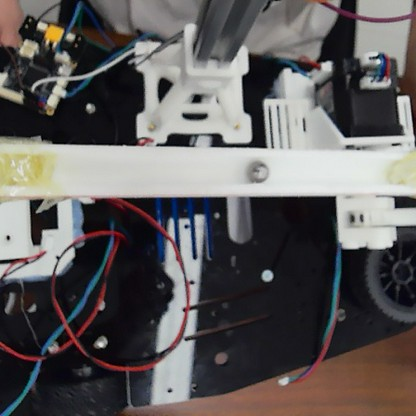ironball: (242, 156, 272, 187)
